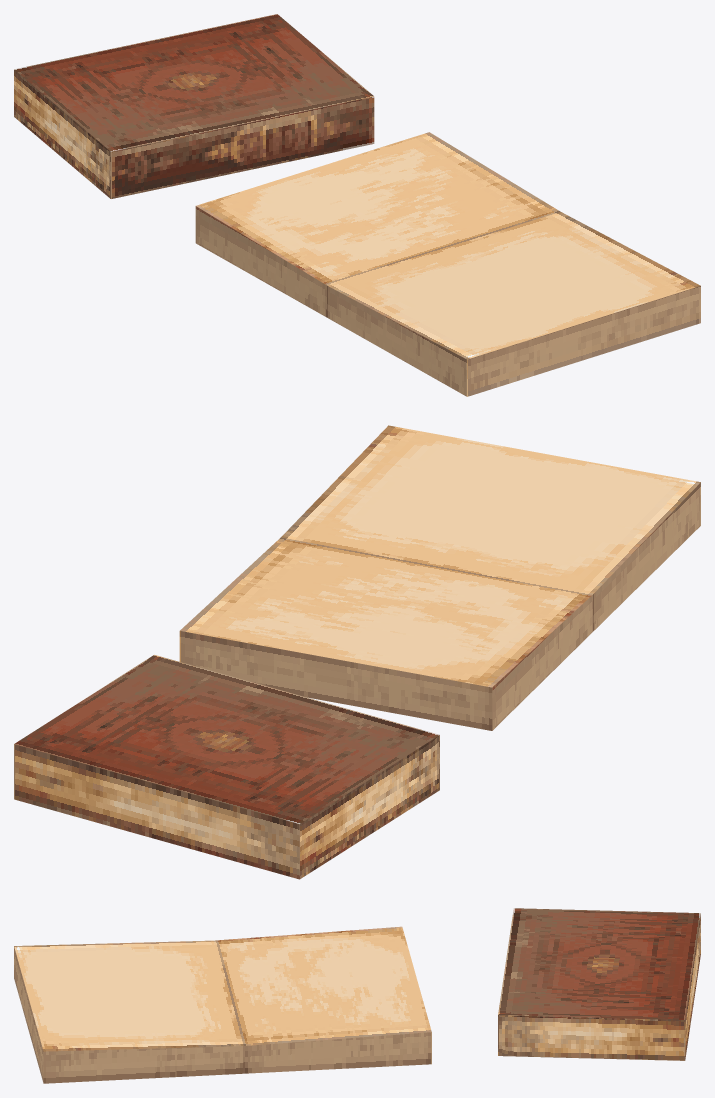
File: psx_old_book.glb
The picture shows the model from 3 angles, top to bottom: view 1: azimuth 30°, elevation 25°; view 2: azimuth 150°, elevation 25°; view 3: azimuth 270°, elevation 25°; orthographic projection. The views are drawn at different scales.
Parts seen in each view (by area): view 1: Cube, Cube.001; view 2: Cube, Cube.001; view 3: Cube, Cube.001.
Part boxes in pixels (x1,y1,x2,y2): Cube: (195,132,700,396); Cube.001: (14,14,374,198); Cube: (179,425,700,730); Cube.001: (14,655,439,879); Cube: (14,926,431,1083); Cube.001: (498,908,700,1060).
Size of the model in its own units: 1.16 by 0.1707 by 2.52.
1 material, 1 textured.
